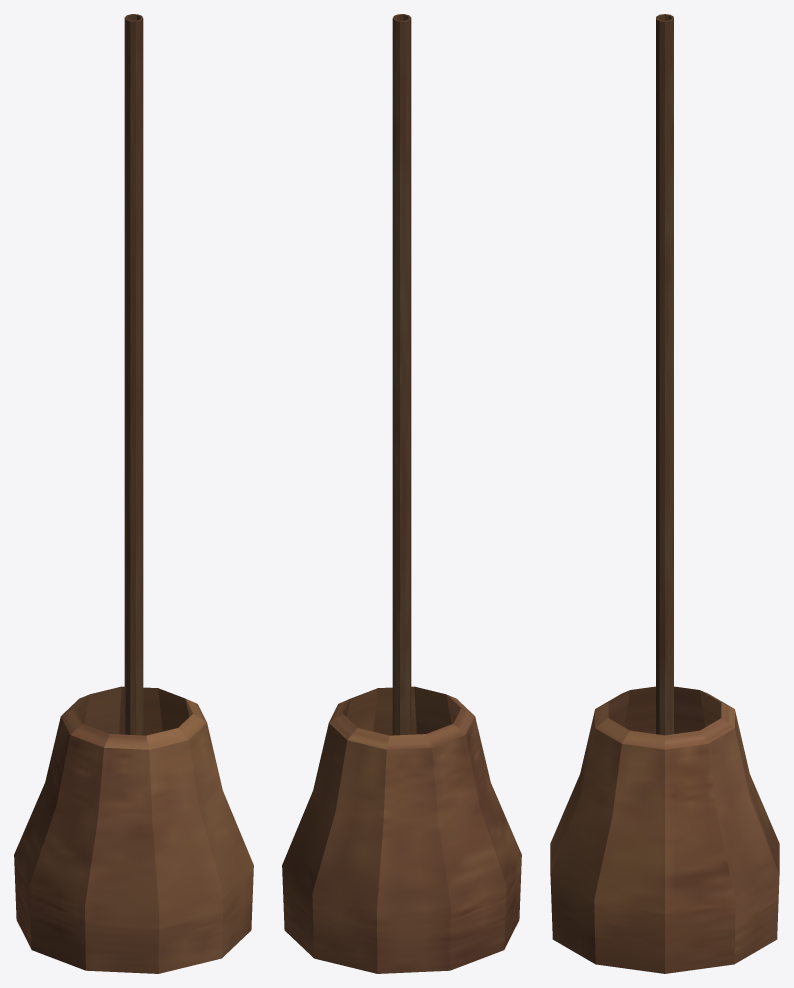
Rendered from lamp.fbx.
The picture shows the model from 3 angles, left to right: view 1: azimuth 30°, elevation 25°; view 2: azimuth 150°, elevation 25°; view 3: azimuth 270°, elevation 25°; orthographic projection.
Parts seen in each view (by area): view 1: lamp; view 2: lamp; view 3: lamp.
Boxes of the visible parts, x1=… form: lamp: x1=14, y1=14, x2=253, y2=973; lamp: x1=282, y1=14, x2=521, y2=973; lamp: x1=550, y1=14, x2=779, y2=973.
Bounding box in the file's own units: 0.6881 × 2.86 × 0.6544.
